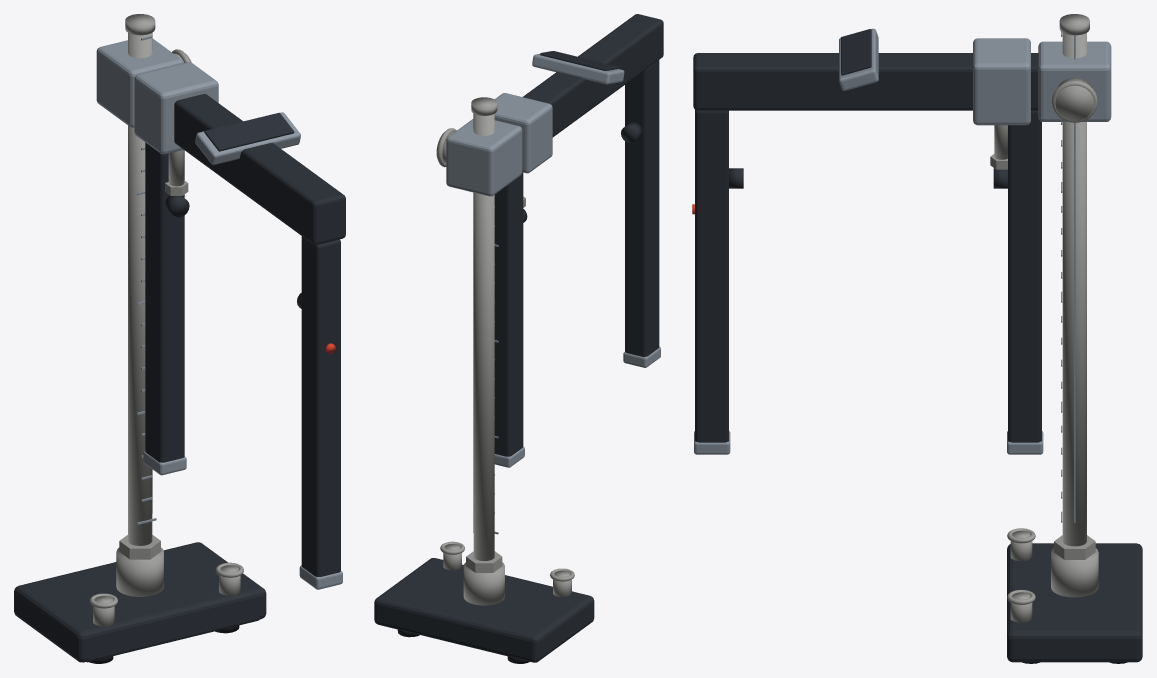
The model's file is photogate.glb.
3 views of the same model, side by side, from view 1: azimuth 30°, elevation 25°; view 2: azimuth 150°, elevation 25°; view 3: azimuth 270°, elevation 25° (orthographic). The views are drawn at different scales.
Parts seen in each view (by area): view 1: base_plate, arm_b, arm_f, beam, post, head_clamp, cross_clamp, display_face, collar, display_bezel, base_lip, locknut (+6 smaller); view 2: base_plate, arm_b, post, arm_f, beam, cross_clamp, head_clamp, collar, display_bezel, display_face, locknut, post_cap; view 3: beam, base_plate, arm_b, arm_f, post, head_clamp, cross_clamp, collar, cross_knob, display_face, post_scale, display_bezel (+1 smaller).
Boxes of the visible parts, x1,y1,x2,y2 form: base_plate: [14, 542, 266, 662]; arm_b: [301, 236, 340, 576]; arm_f: [145, 142, 184, 462]; beam: [174, 94, 345, 244]; post: [128, 33, 152, 545]; head_clamp: [134, 62, 218, 154]; cross_clamp: [96, 38, 183, 127]; display_face: [204, 112, 294, 151]; collar: [116, 547, 163, 596]; display_bezel: [195, 112, 300, 165]; base_lip: [86, 614, 260, 662]; locknut: [119, 535, 160, 559]; base_plate: [374, 558, 594, 662]; arm_b: [625, 60, 659, 356]; post: [473, 114, 494, 560]; arm_f: [494, 172, 523, 456]; beam: [523, 14, 663, 137]; cross_clamp: [446, 119, 522, 196]; head_clamp: [494, 93, 552, 173]; collar: [463, 562, 504, 605]; display_bezel: [532, 54, 624, 84]; display_face: [540, 51, 618, 70]; locknut: [466, 551, 502, 572]; post_cap: [471, 97, 497, 115]; beam: [693, 53, 1038, 110]; base_plate: [1007, 543, 1142, 662]; arm_b: [695, 110, 728, 442]; arm_f: [1008, 110, 1041, 442]; post: [1062, 33, 1086, 546]; head_clamp: [973, 38, 1030, 125]; cross_clamp: [1038, 41, 1111, 121]; collar: [1051, 548, 1098, 597]; cross_knob: [1055, 77, 1094, 121]; display_face: [841, 29, 871, 75]; post_scale: [1061, 31, 1075, 522]; display_bezel: [839, 28, 878, 90].
Bounding box in the file's own units: 0.09 × 0.276 × 0.1857.
